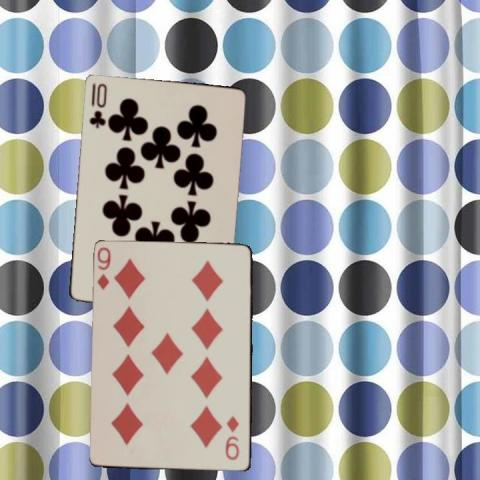10c: (86, 80, 108, 129)
9d: (95, 244, 113, 291), (226, 414, 242, 462)
